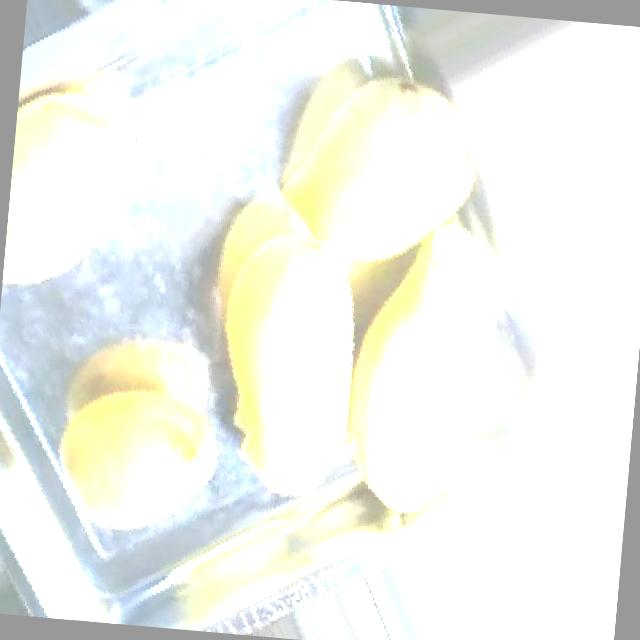Mango: (342, 216, 494, 517), (274, 68, 482, 270), (209, 225, 361, 498), (2, 89, 148, 292), (50, 381, 223, 534)
